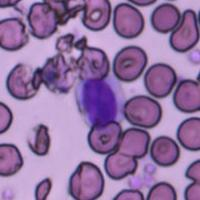L: (74, 74, 126, 132)
